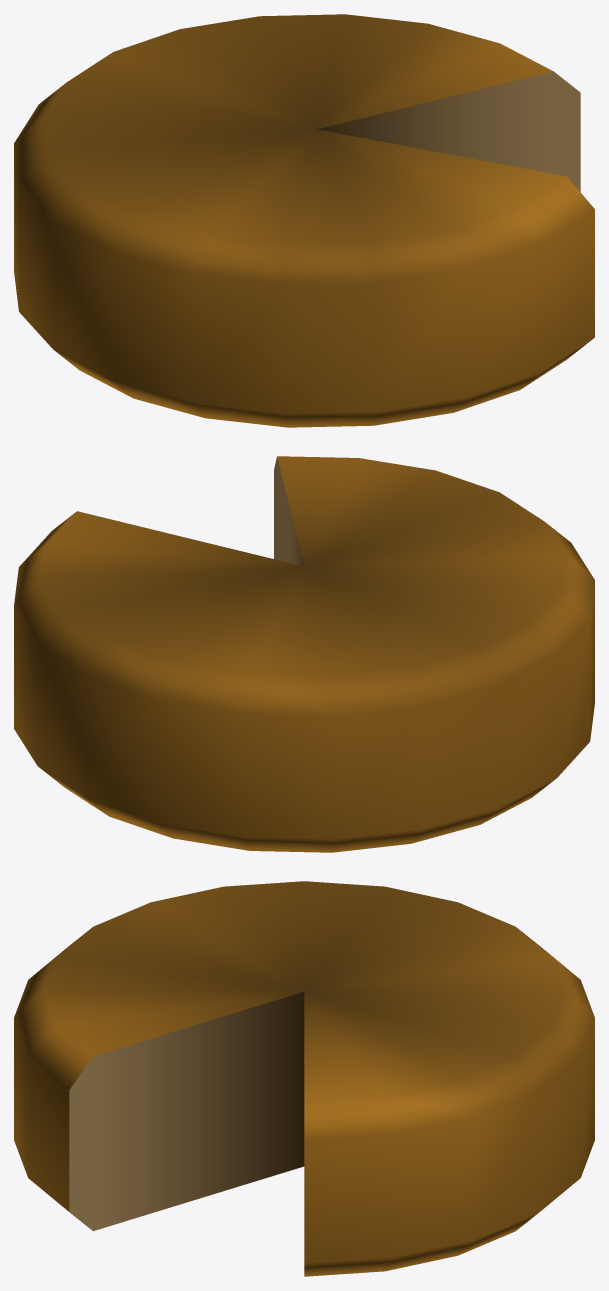
Rendered from Cheese.fbx.
The picture shows the model from 3 angles, top to bottom: view 1: azimuth 30°, elevation 25°; view 2: azimuth 150°, elevation 25°; view 3: azimuth 270°, elevation 25°; orthographic projection. The views are drawn at different scales.
Parts seen in each view (by area): view 1: pCylinder1; view 2: pCylinder1; view 3: pCylinder1.
Boxes of the visible parts, left/top/right/bottom form: pCylinder1: left=14, top=14, right=594, bottom=427; pCylinder1: left=14, top=456, right=594, bottom=852; pCylinder1: left=14, top=881, right=594, bottom=1276.
Bounding box in the file's own units: 6.99 × 2.32 × 6.99.
